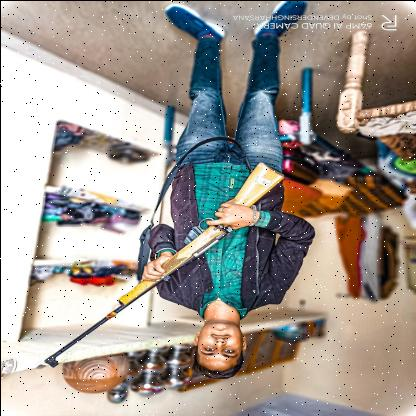rifle: (40, 159, 286, 369)
